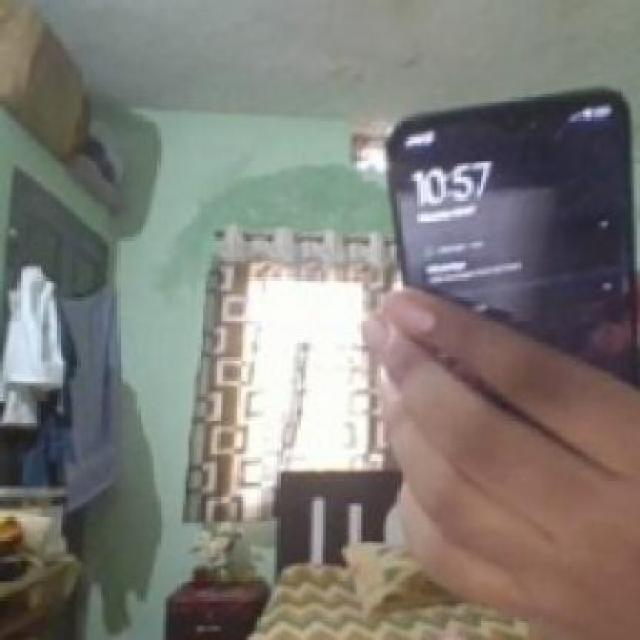Phone: (383, 86, 634, 408)
